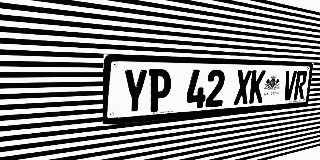2: (205, 70, 225, 107)
4: (186, 69, 208, 109)
K: (249, 70, 266, 104)
P: (147, 69, 172, 113)
R: (293, 71, 308, 100)
V: (282, 70, 297, 101)
X: (234, 70, 252, 105)
Y: (122, 69, 148, 115)
